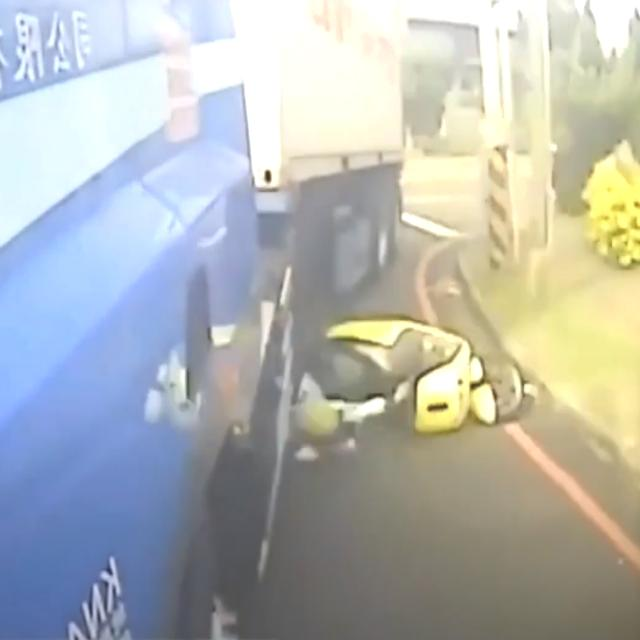accident: (265, 317, 535, 457)
